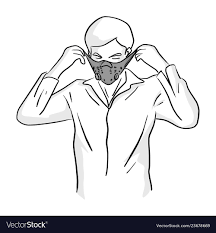masked: (69, 15, 146, 97)
